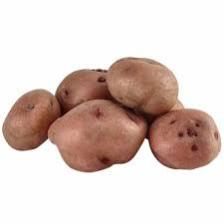Diseased-fungal potato: (46, 98, 148, 174), (54, 66, 128, 130), (105, 56, 180, 119), (147, 108, 223, 170), (2, 86, 61, 152)
